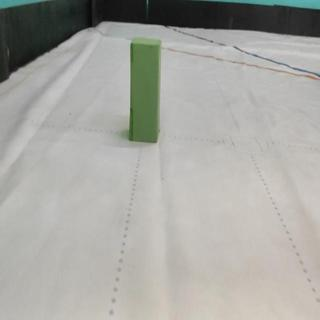greenbox: (127, 35, 164, 144)
